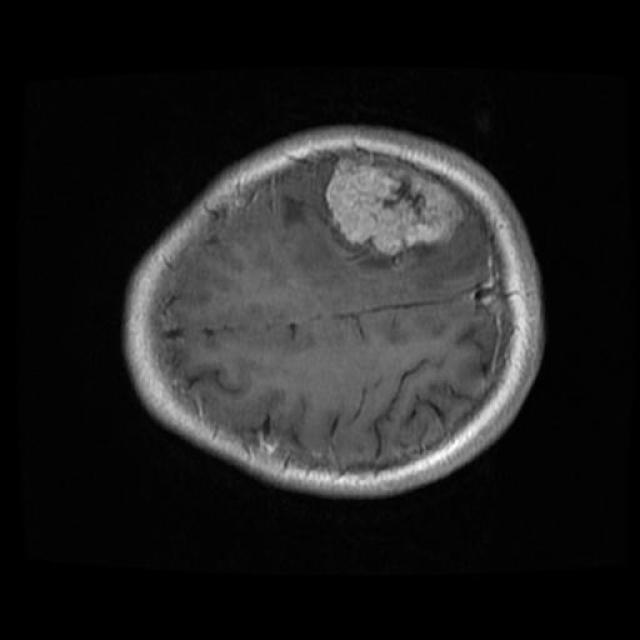Meningioma: (325, 159, 463, 257)
